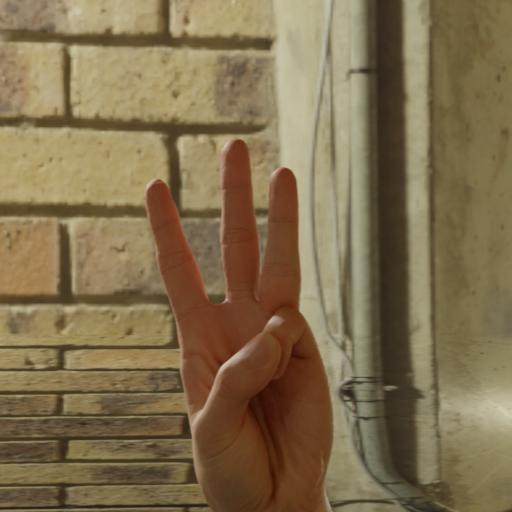W: (138, 113, 386, 512)
